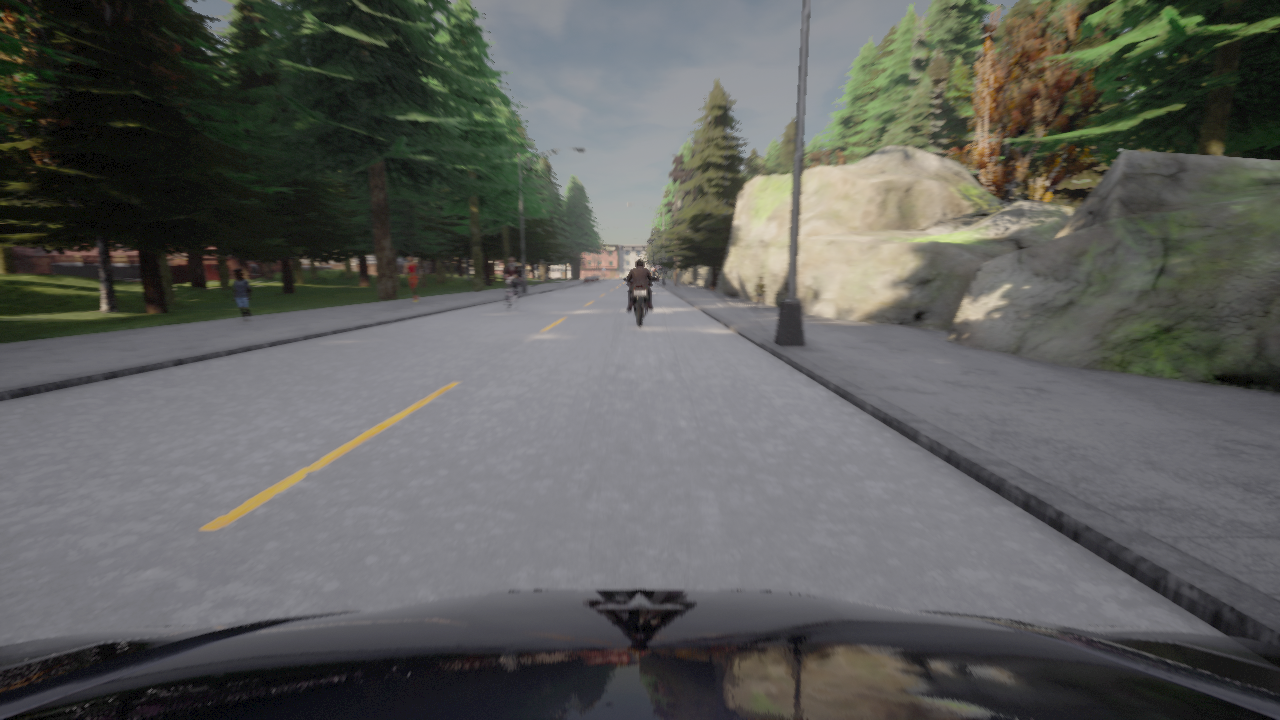cyclist: (0, 588, 1279, 719), (624, 278, 655, 326), (505, 276, 518, 311)
pedestrian: (233, 270, 250, 321), (404, 254, 420, 302), (756, 276, 766, 309), (517, 277, 521, 289)
